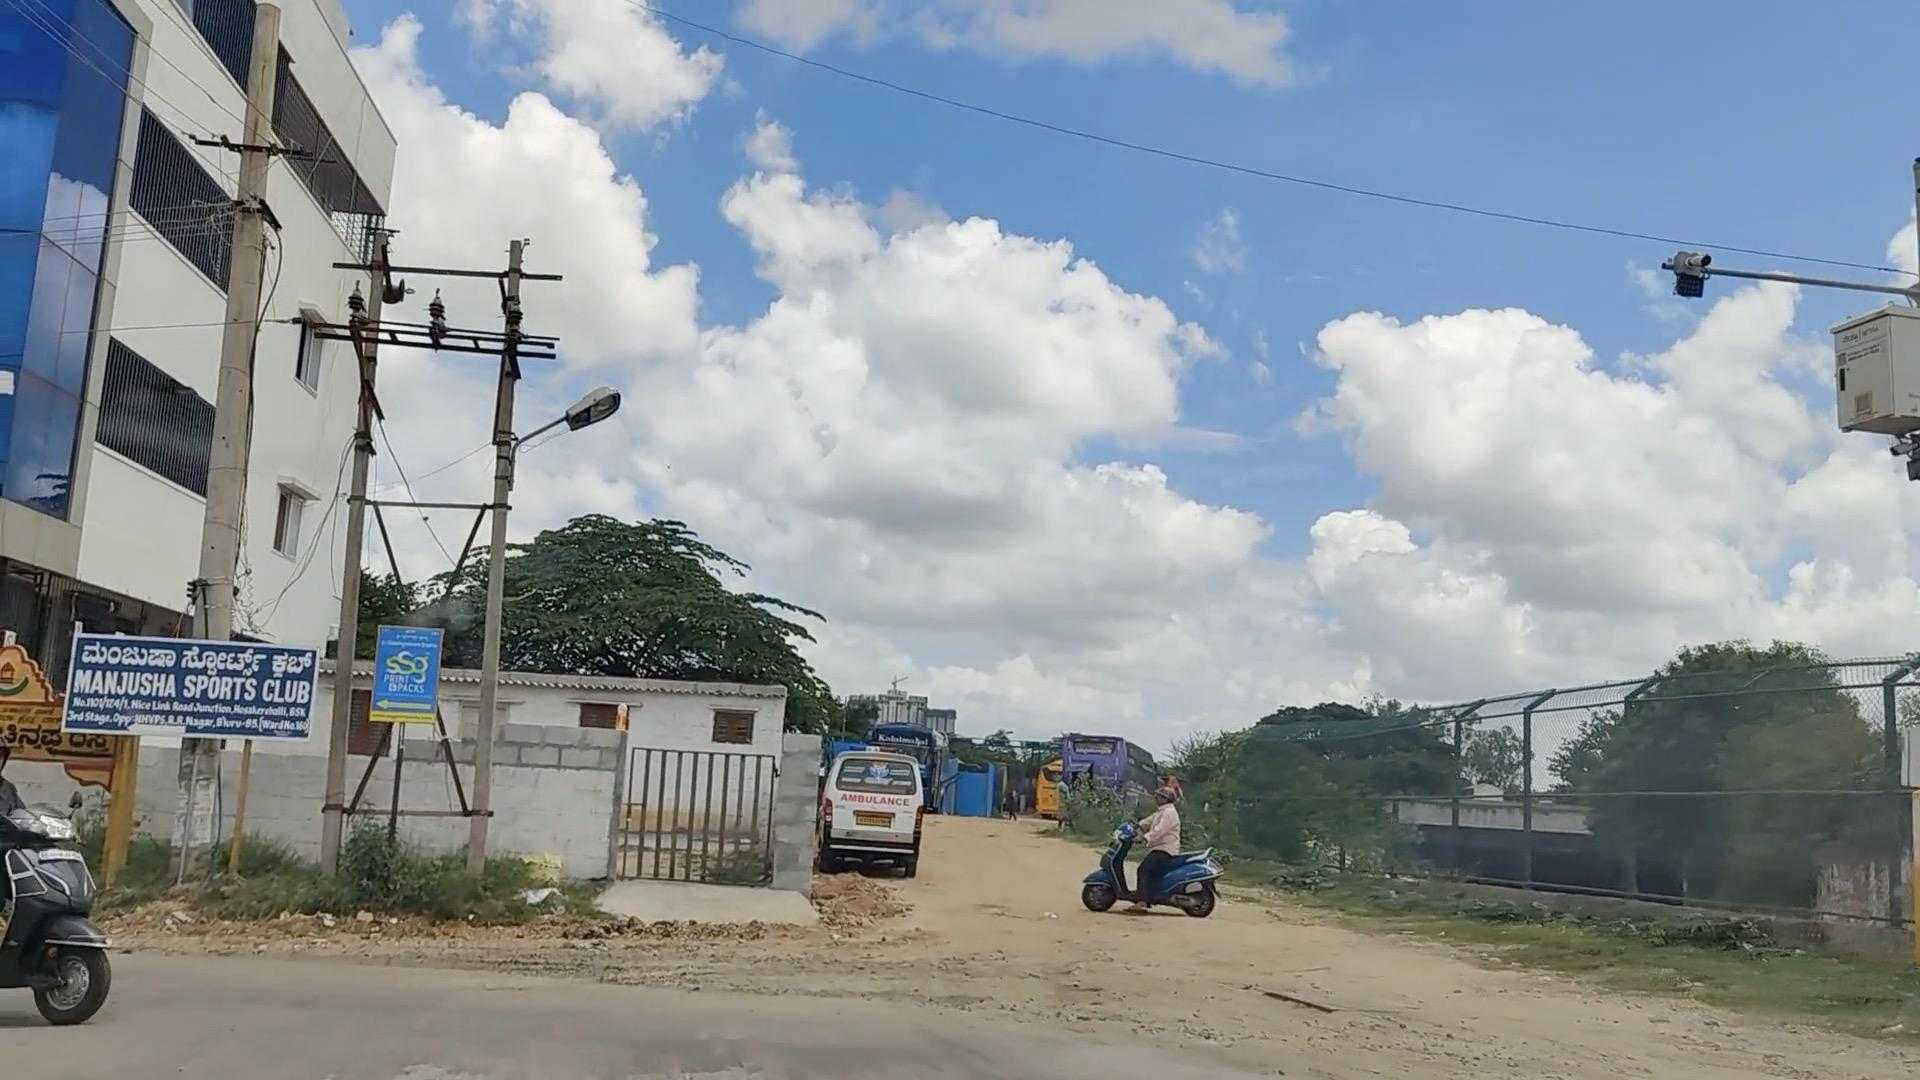LMV: (1088, 793, 1228, 913), (835, 748, 930, 868)
RoadDamages: (655, 1030, 823, 1080), (393, 1035, 469, 1080)
